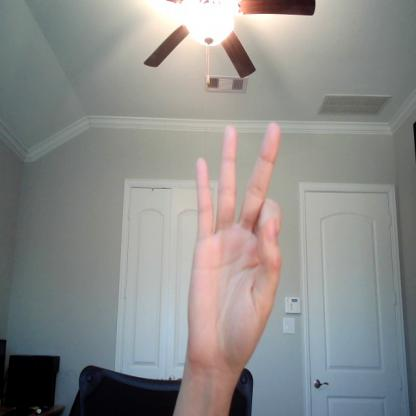nine: (184, 122, 284, 376)
